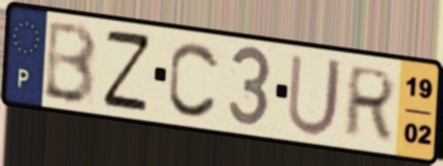3: (226, 42, 273, 133)
B: (40, 18, 99, 108)
C: (165, 38, 222, 121)
R: (340, 63, 400, 142)
U: (284, 51, 346, 140)
Z: (101, 28, 153, 114)
